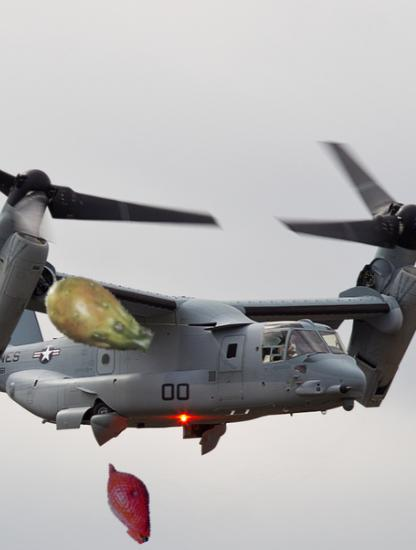Cactus: (39, 258, 158, 377)
Salak: (86, 458, 174, 546)
